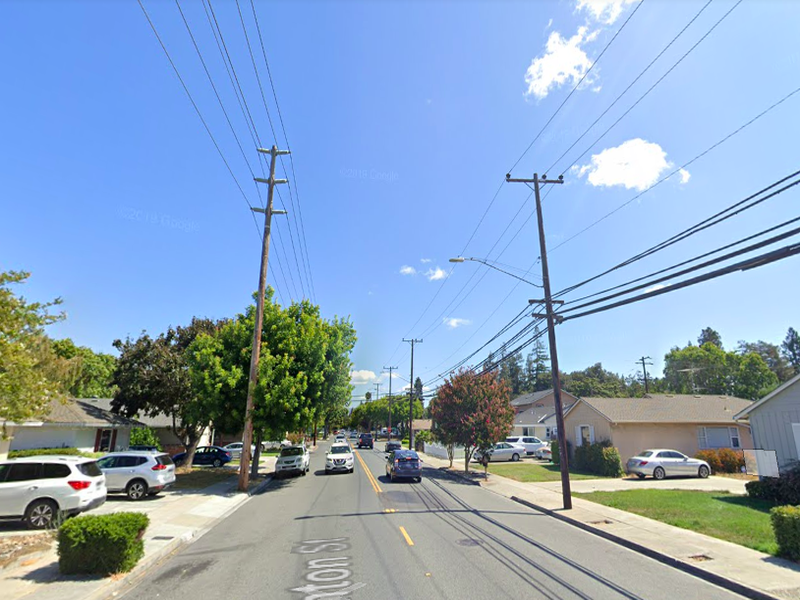utility_pole: (244, 135, 297, 228), (497, 160, 572, 222)
